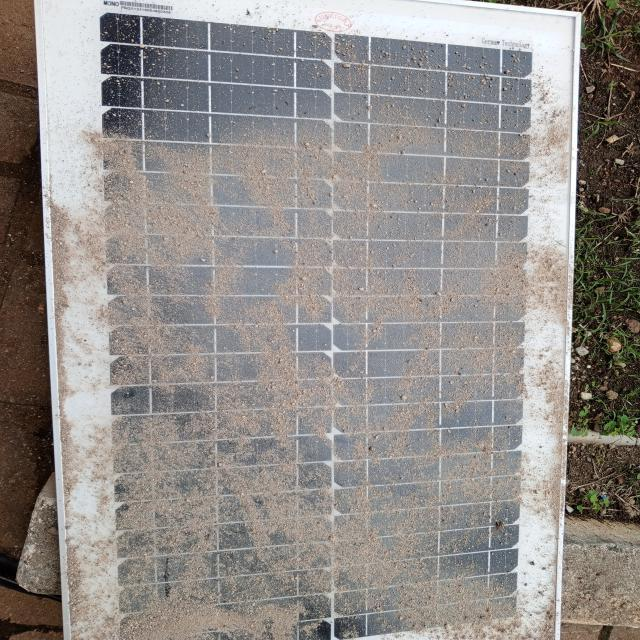Anomaly Solar Panel: (55, 2, 537, 637)
Surface Contaminant: (60, 11, 535, 626)
